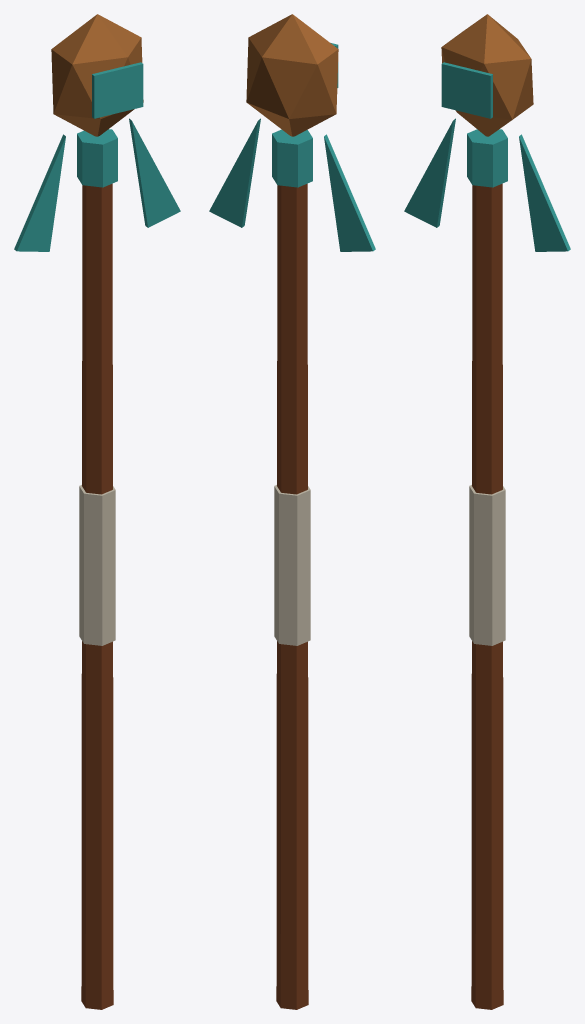
Rendered from weapon_staff.glb.
3 views of the same model, side by side, from view 1: azimuth 30°, elevation 25°; view 2: azimuth 150°, elevation 25°; view 3: azimuth 330°, elevation 25° (orthographic).
Parts seen in each view (by area): view 1: bird_weapon_staff; view 2: bird_weapon_staff; view 3: bird_weapon_staff.
Boxes of the visible parts, box(x1,y1,x2,y2) form: bird_weapon_staff: box(14, 14, 180, 1009); bird_weapon_staff: box(209, 14, 375, 1009); bird_weapon_staff: box(404, 14, 570, 1009).
Size of the model in its own units: 0.24 by 1.38 by 0.0969.
